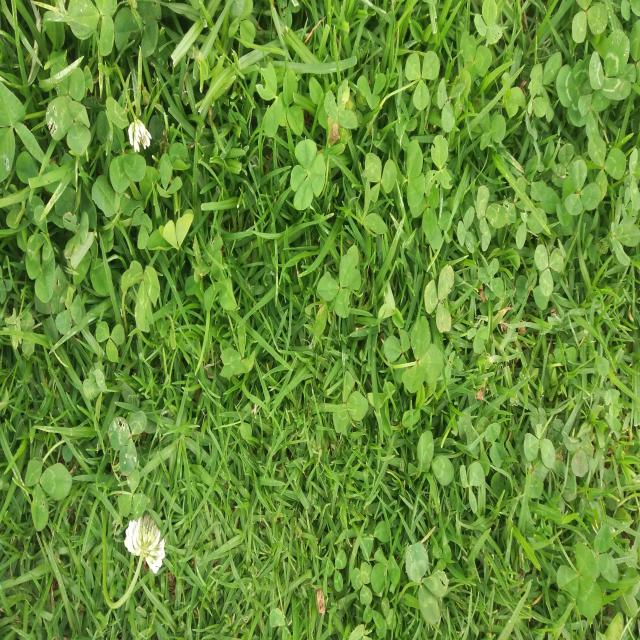Four Leaf Clover: (290, 139, 326, 210)
